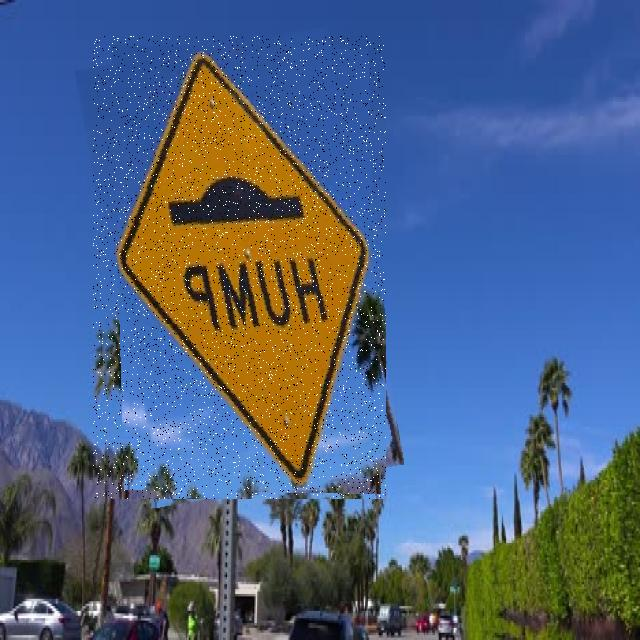hump: (93, 36, 386, 499)
